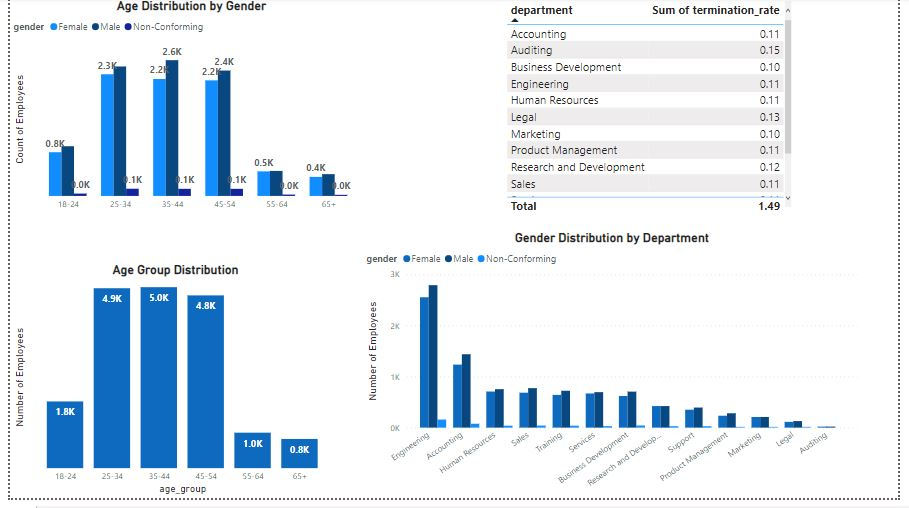

Layout of this report page (visuals, bound fields, positions):
{"tool":"powerbi","page":{"name":"Page 2","canvas":[1280,720],"ordinal":1},"visuals":[{"type":"columnChart","title":"Age Group Distribution","fields":{"Category":["age category in hr.age_group"],"Y":["Sum(age category in hr.count)"]},"box":[0,380.2,476.6,339.8],"z":0},{"type":"clusteredColumnChart","title":"Age Distribution by Gender","fields":{"Category":["age dist by gender in hr.age_group"],"Y":["Sum(age dist by gender in hr.count)"],"Series":["age dist by gender in hr.gender"]},"box":[0,0,522.7,315.4],"z":1},{"type":"tableEx","fields":{"Values":["turnover rate in hr.department","Sum(turnover rate in hr.termination_rate)"]},"box":[709.9,0,420.5,315.4],"z":2},{"type":"clusteredColumnChart","title":"Gender Distribution by Department","fields":{"Category":["gender across dept in hr.department"],"Y":["Sum(gender across dept in hr.count)"],"Series":["gender across dept in hr.gender"]},"box":[508.3,334.1,717.1,385.9],"z":3}]}

Visuals, with their boxes in screenshot pixels (x1, y1, x2, y2), scaled from the page's 1280x720 canvas onto the 909x508 screenshot:
"Age Group Distribution" columnChart: box(0, 268, 338, 507)
"Age Distribution by Gender" clusteredColumnChart: box(0, 0, 371, 223)
tableEx - turnover rate in hr.department x Sum(turnover rate in hr.termination_rate): box(504, 0, 803, 223)
"Gender Distribution by Department" clusteredColumnChart: box(361, 236, 870, 507)
